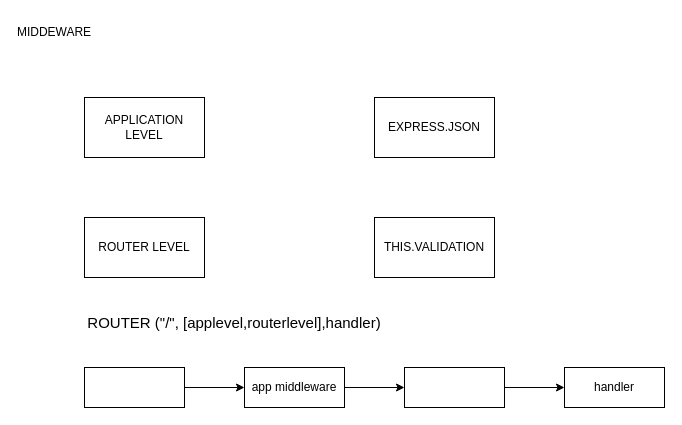
The diagram is 682 pixels wide and 425 high, and some of its shapes have lost their labels. The centre of each missing label's shape, as x and y in pixels:
"akses endpoint" belongs at [134,387].
"router middleware" belongs at [454,387].
